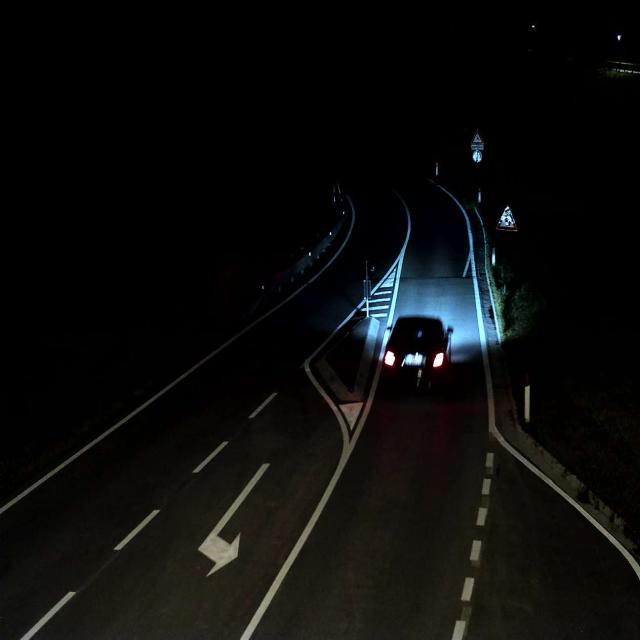car: (381, 314, 453, 391)
